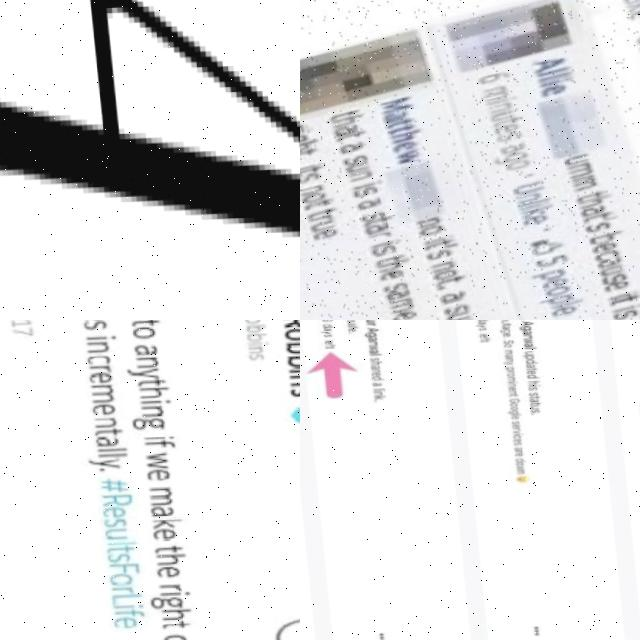1: (7, 320, 31, 326)
5: (528, 252, 566, 269)
6: (474, 67, 512, 85)
7: (9, 325, 32, 337), (245, 354, 261, 361)
A: (0, 0, 300, 288), (89, 433, 119, 447), (129, 343, 158, 356), (145, 504, 171, 517)
B: (282, 339, 300, 354), (283, 353, 300, 368), (243, 324, 266, 333), (244, 333, 267, 342)
C: (85, 352, 109, 366)
D: (156, 632, 189, 640)
E: (86, 402, 113, 416), (84, 370, 111, 384), (96, 505, 122, 519), (146, 527, 173, 540), (105, 616, 132, 629), (142, 467, 167, 480), (150, 565, 175, 578)
F: (104, 563, 134, 573), (108, 607, 138, 617), (140, 439, 173, 448)
G: (143, 595, 178, 610), (127, 415, 160, 430)
H: (154, 608, 185, 621), (135, 386, 166, 399), (151, 552, 182, 565)
I: (84, 335, 114, 340), (151, 592, 187, 596), (106, 604, 138, 608), (140, 435, 171, 439), (138, 400, 168, 404), (245, 341, 266, 345), (286, 368, 300, 372)
K: (148, 518, 178, 529)
L: (105, 594, 136, 604), (101, 540, 133, 545), (95, 452, 124, 457), (94, 447, 124, 451)
M: (86, 383, 111, 404), (144, 487, 169, 506)
N: (89, 415, 113, 428), (133, 355, 155, 368), (137, 405, 161, 416), (83, 341, 107, 352), (285, 373, 300, 386), (245, 345, 261, 354)
O: (103, 571, 129, 586), (130, 325, 154, 340), (280, 326, 300, 341), (242, 320, 258, 325)
R: (97, 493, 130, 506), (105, 585, 129, 595), (85, 363, 108, 373), (153, 584, 176, 593), (281, 320, 300, 327)
S: (78, 320, 105, 330), (101, 552, 126, 562), (98, 518, 121, 528), (285, 386, 300, 397)
T: (146, 544, 179, 553), (90, 426, 119, 436), (154, 619, 184, 628), (99, 544, 129, 553), (133, 378, 163, 385), (127, 320, 157, 325)
U: (99, 526, 123, 540)
W: (139, 452, 164, 469)
Y: (122, 367, 157, 380), (82, 457, 118, 468)
